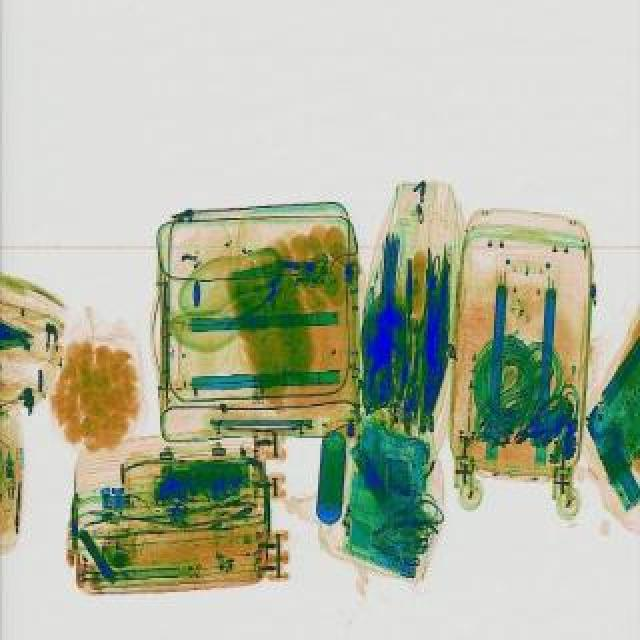wrench: (506, 392, 578, 452)
